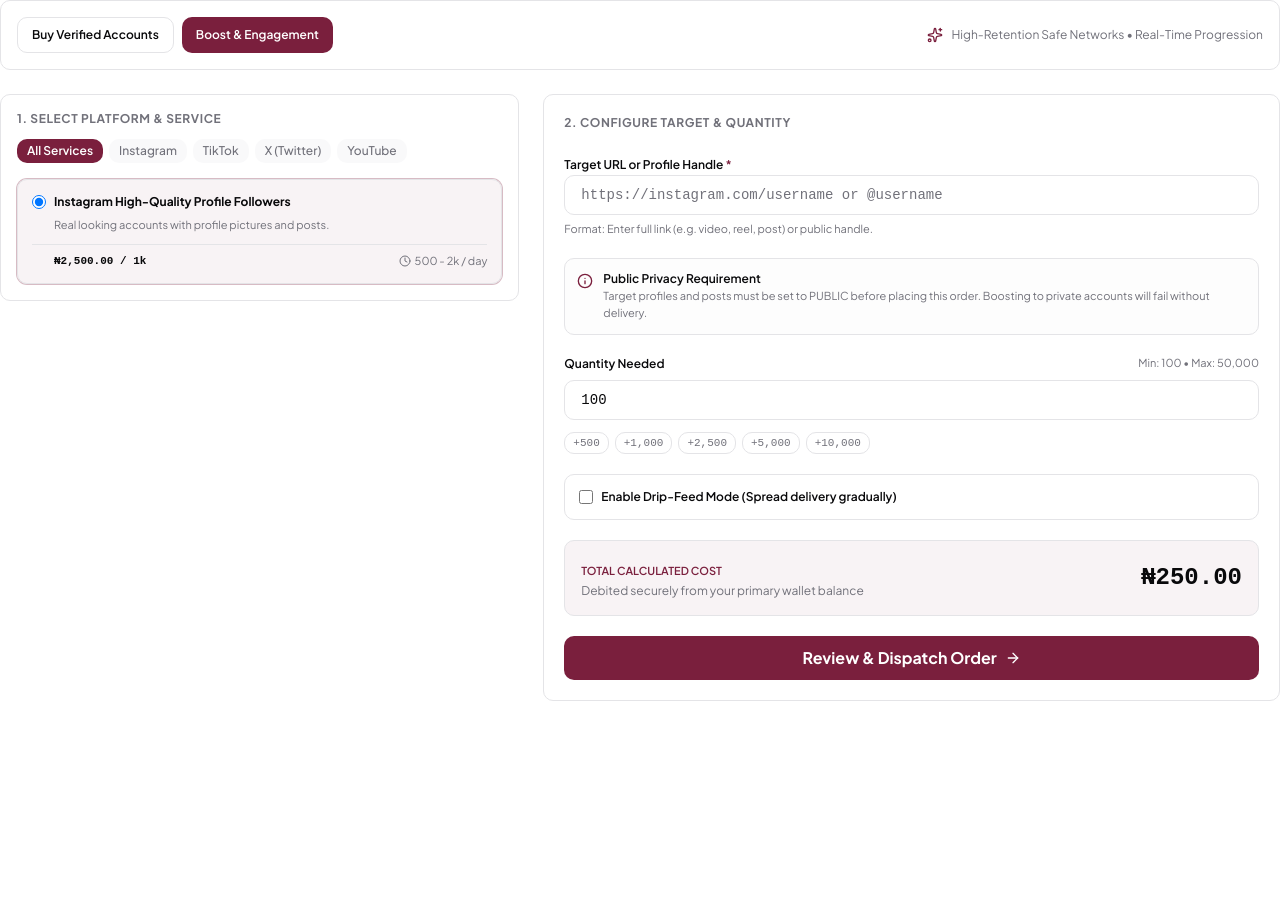
Scenario: BoostAccountView Component (F19.2) › updates calculated cost when quantity is modified
Expected: the text "Instagram High-Quality Profile Followers" is shown, [54, 194, 291, 210]
Replace the text in the number field with test id "quantity-input" with "3000" at (912, 400), box [564, 380, 1259, 420]
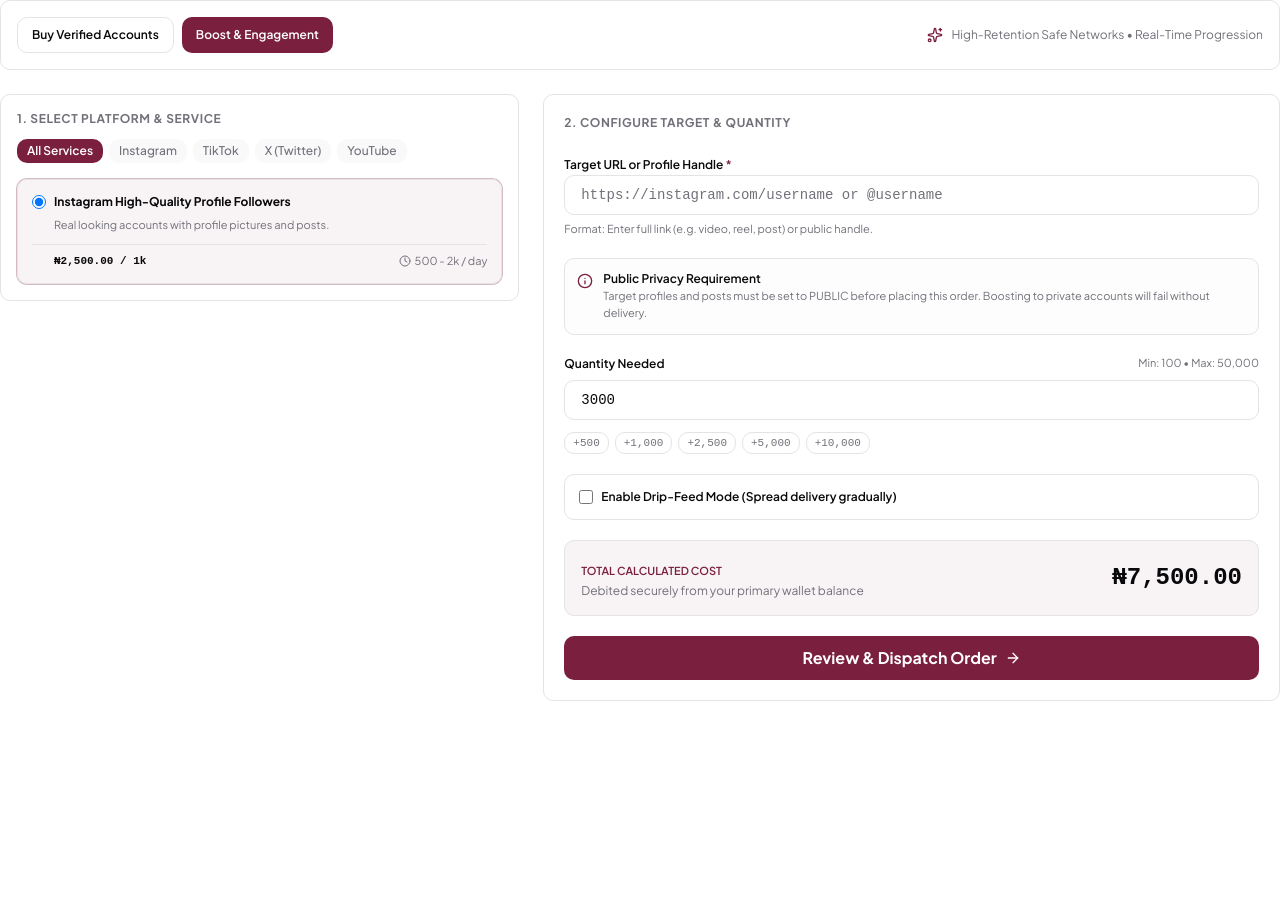
Expected: the text "₦7,500.00" is shown, [1112, 564, 1242, 591]
